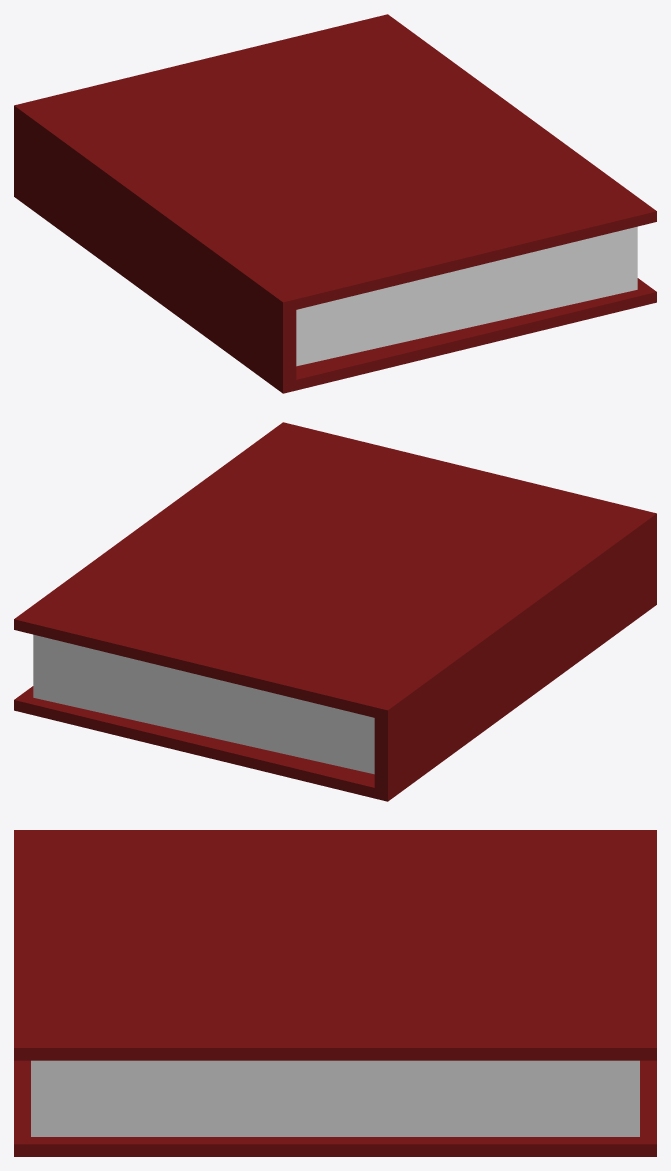
Rendered from Asset_Book.fbx.
The picture shows the model from 3 angles, top to bottom: view 1: azimuth 30°, elevation 25°; view 2: azimuth 150°, elevation 25°; view 3: azimuth 270°, elevation 25°; orthographic projection. The views are drawn at different scales.
Visible parts, largest first — view 1: Asset_Book; view 2: Asset_Book; view 3: Asset_Book.
Boxes of the visible parts, x1,y1,x2,y2 form: Asset_Book: [14, 14, 656, 393]; Asset_Book: [14, 422, 656, 801]; Asset_Book: [14, 830, 656, 1156].
Size of the model in its own units: 30.51 by 7.12 by 38.04.
